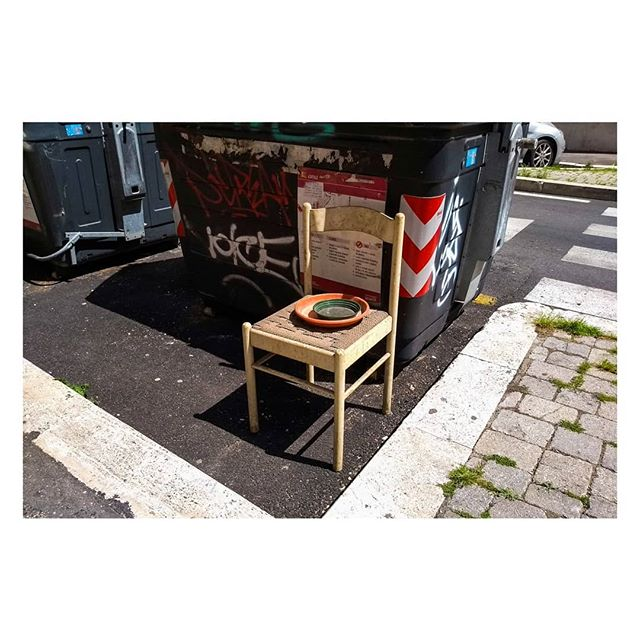chair: (232, 190, 417, 473)
crosswalk: (521, 175, 622, 333)
dumpster: (152, 110, 521, 378)
